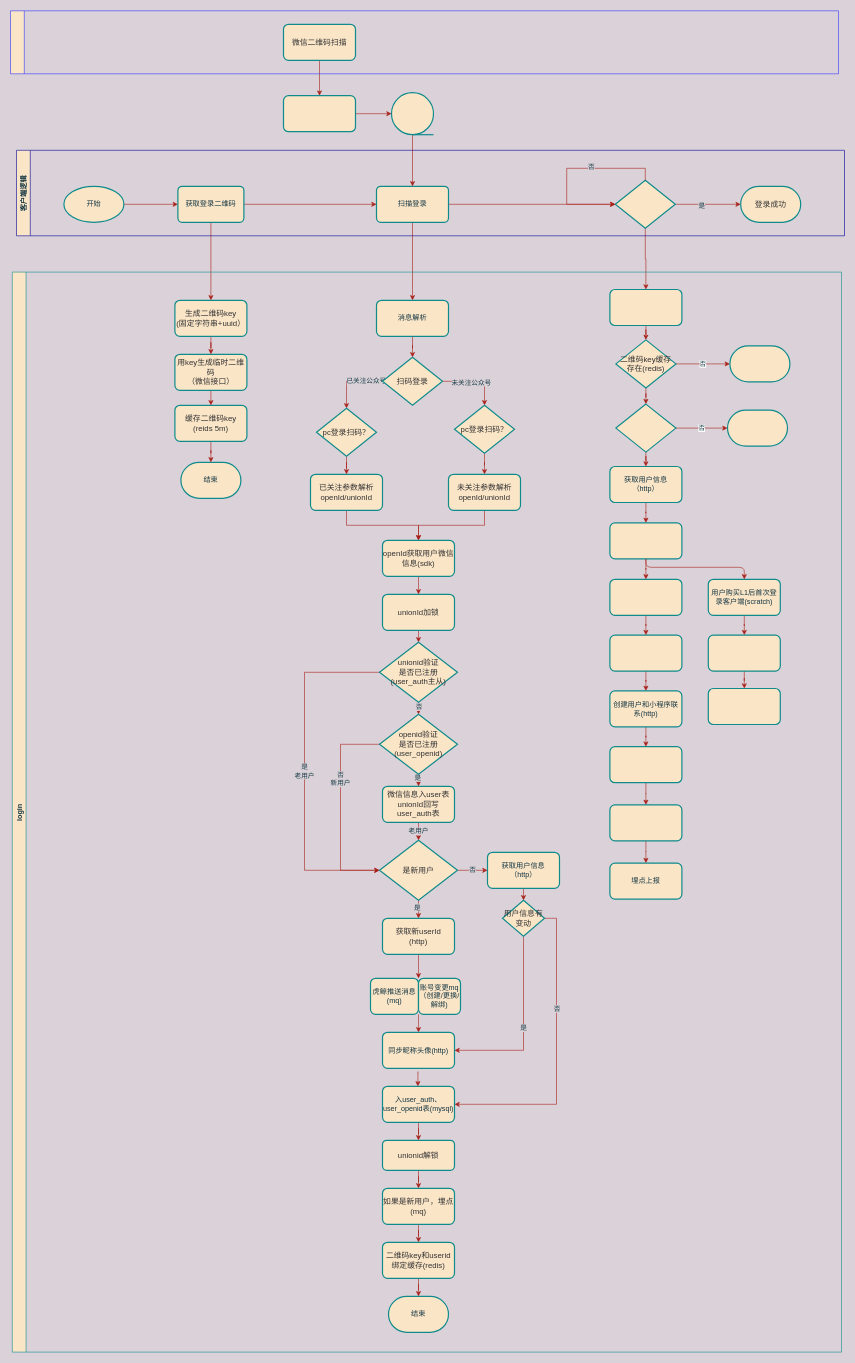
Some shapes in this 855 by 1363 pixel diagram are drawn without their labels. Here are the shapes that lost their labels. From the top down, the centre of each, then its label:
the point at 424,42: 腾讯
the point at 319,113: api-wx-callback
the point at 412,113: 二维码扫码mq
the point at 645,204: 5s循环检测 是否扫描 登录
the point at 645,307: 参数解析 得到二维码key
the point at 759,363: 二维码过期 结束
the point at 645,427: 缓存中有userId
the point at 757,427: 还未扫二维码 结束
the point at 645,540: 创建token
the point at 645,597: 存储taoken、设备、ip到user_token表（mysql)
the point at 645,652: token、设备、ip等推送mq
the point at 744,652: 获取用户购买订单信息（http)
the point at 744,706: 发送广告召回消息 (mq)
the point at 645,764: 设备校验（1个设备只登1个）
the point at 645,822: 删除二维码缓存 (防止重复扫描)
